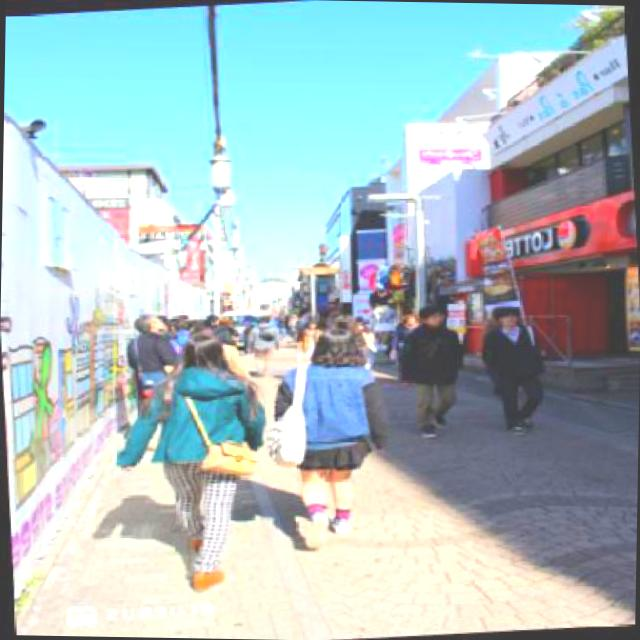Person: (109, 330, 271, 598), (260, 326, 388, 545), (390, 300, 466, 441), (475, 302, 548, 434), (119, 310, 178, 400)
